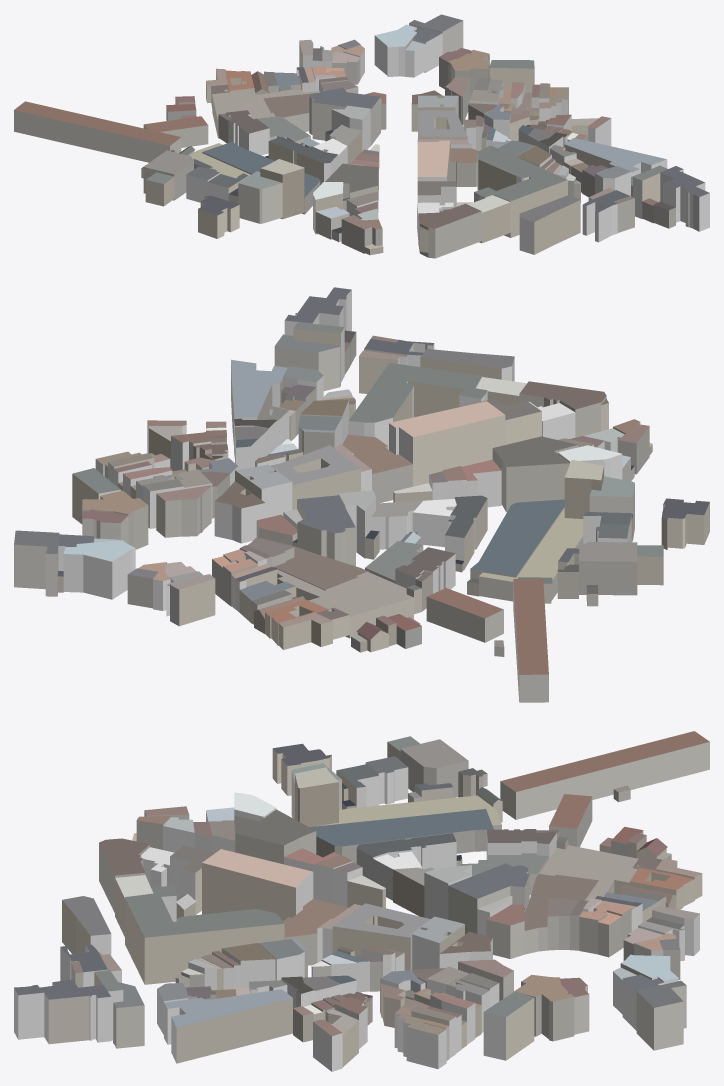
The picture shows the model from 3 angles, top to bottom: view 1: azimuth 30°, elevation 25°; view 2: azimuth 150°, elevation 25°; view 3: azimuth 270°, elevation 25°; orthographic projection. The views are drawn at different scales.
Visible parts, largest first — view 1: tuile; view 2: tuile; view 3: tuile.
Part boxes in pixels (bbox=[...]): tuile: bbox=[14, 14, 709, 258]; tuile: bbox=[14, 287, 709, 702]; tuile: bbox=[14, 731, 709, 1071].
Bounding box in the file's own units: 271 × 37.19 × 280.
